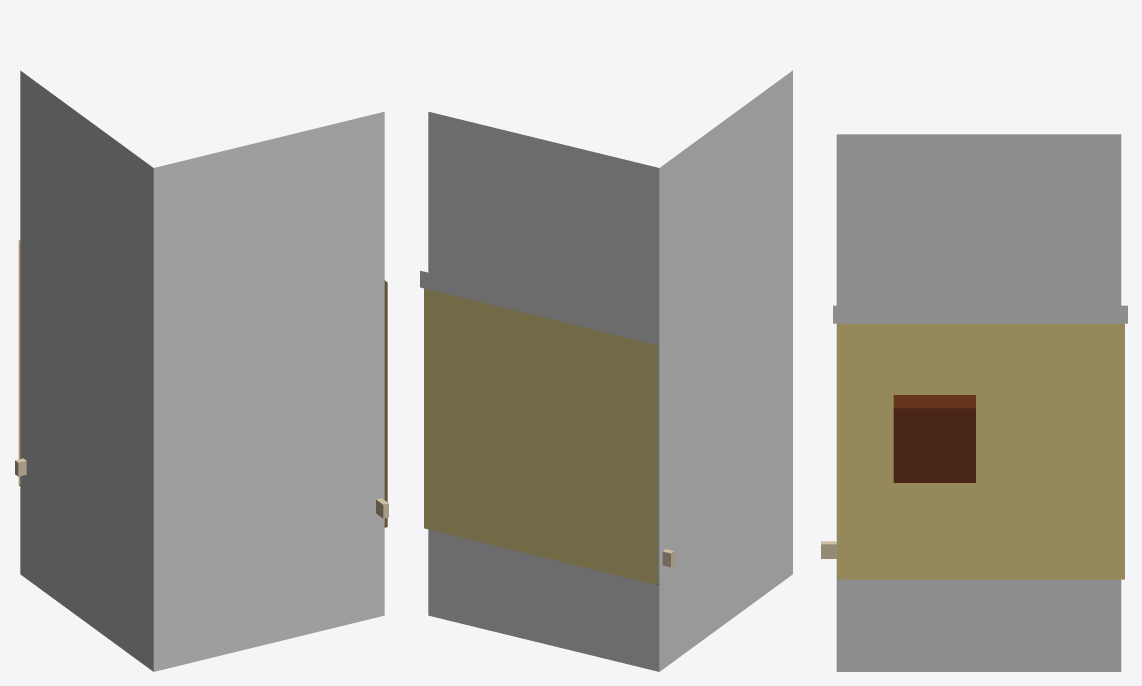
File: project.glb
3 renders of one model, left to right at view 1: azimuth 30°, elevation 25°; view 2: azimuth 150°, elevation 25°; view 3: azimuth 270°, elevation 25°, orthographic. The views are drawn at different scales.
Parts seen in each view (by area): view 1: Cube.012, Cube; view 2: Cube.012, Cube, Cube.002; view 3: Cube.012, Cube, Cube.001, Cube.002.
Boxes of the visible parts, left/top/right/bottom form: Cube.012: left=20, top=70, right=384, bottom=671; Cube: left=18, top=240, right=387, bottom=527; Cube.012: left=428, top=70, right=792, bottom=671; Cube: left=424, top=288, right=658, bottom=585; Cube.002: left=420, top=270, right=659, bottom=345; Cube.012: left=836, top=134, right=1121, bottom=671; Cube: left=837, top=323, right=1124, bottom=579; Cube.001: left=893, top=395, right=975, bottom=482; Cube.002: left=833, top=305, right=1127, bottom=323.
Bounding box in the file's own units: 8.02 × 14.42 × 7.45.
